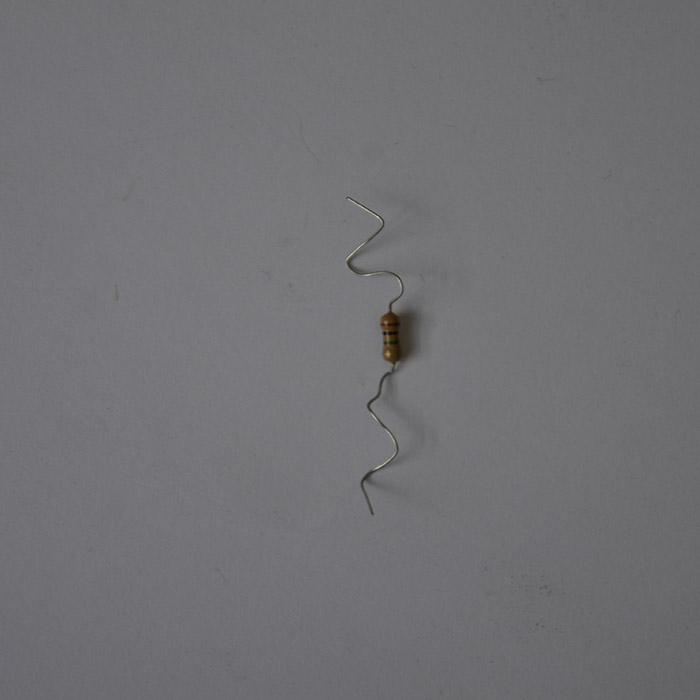resistor: (379, 310, 400, 365)
